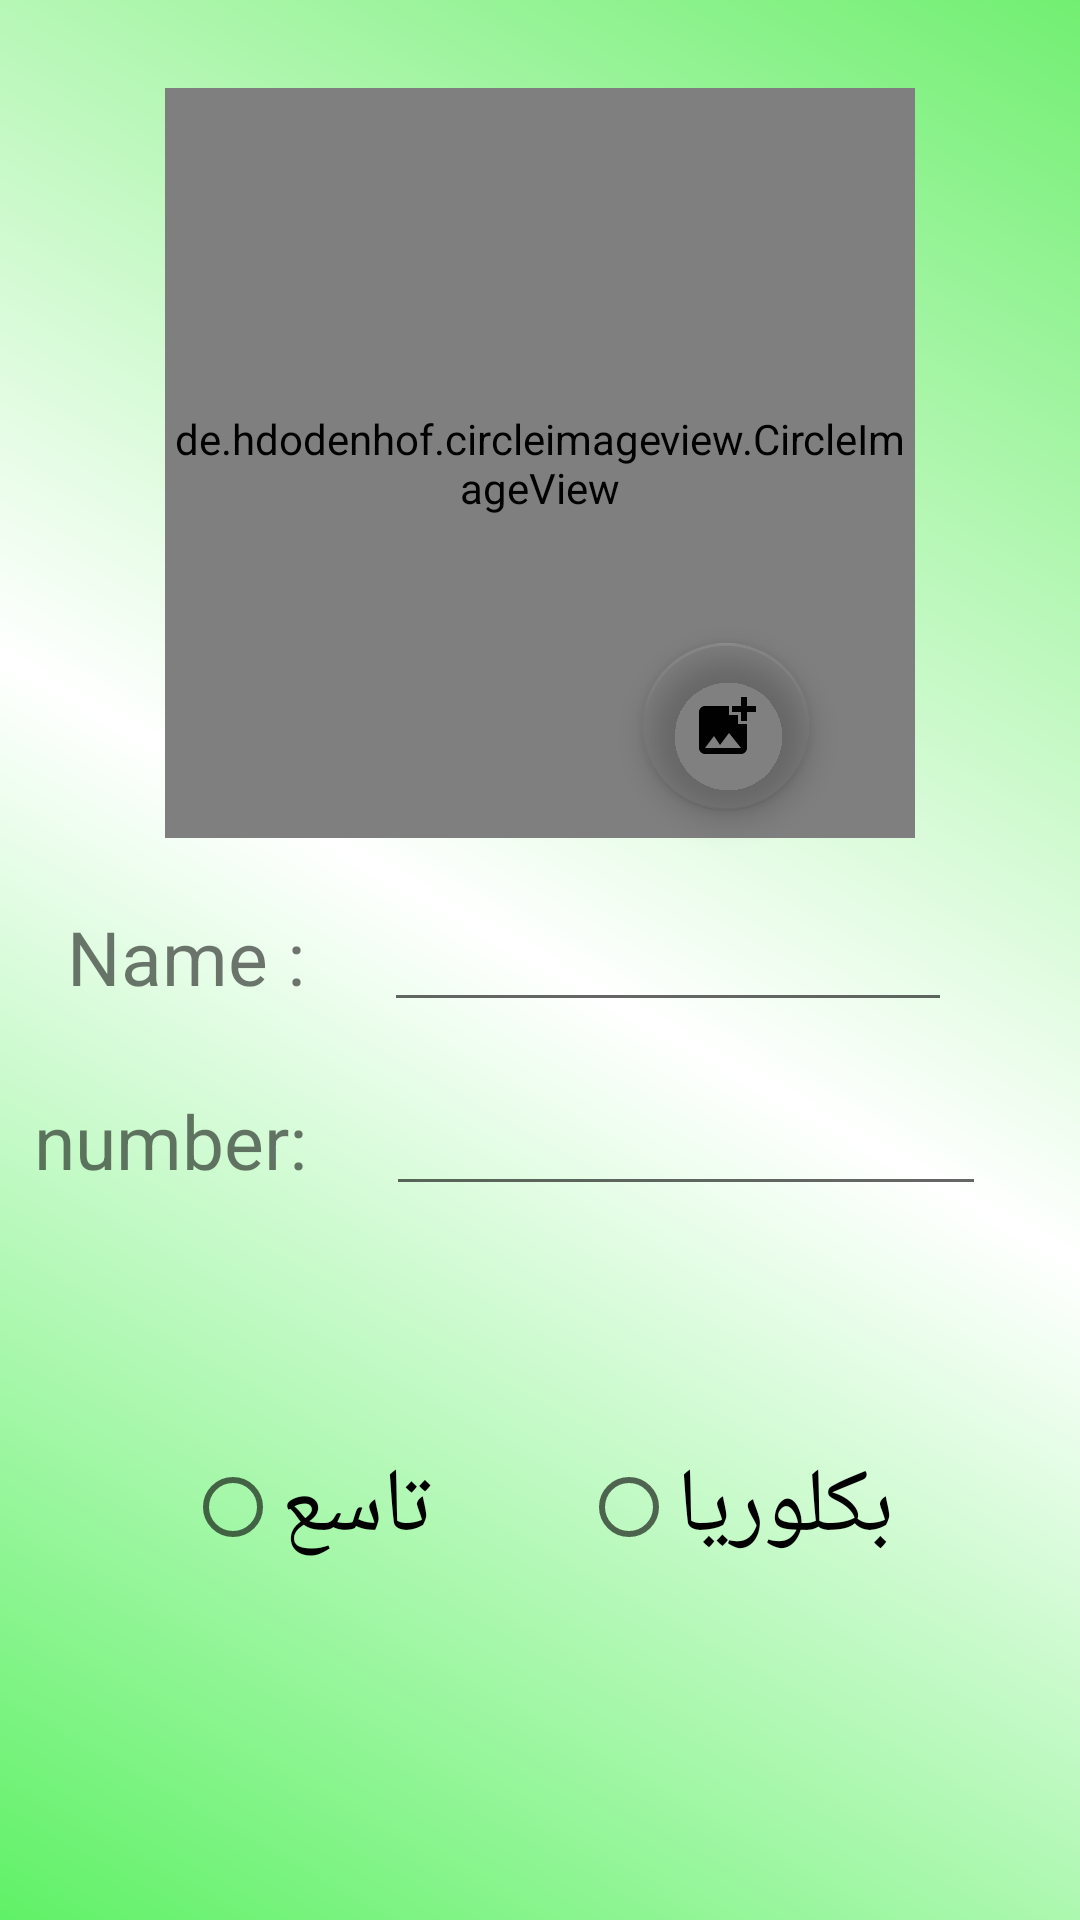

Point at icon controls on the screen. Image size 1080 × 1920, points as (x,y).
add photo alternate: (727,725)
